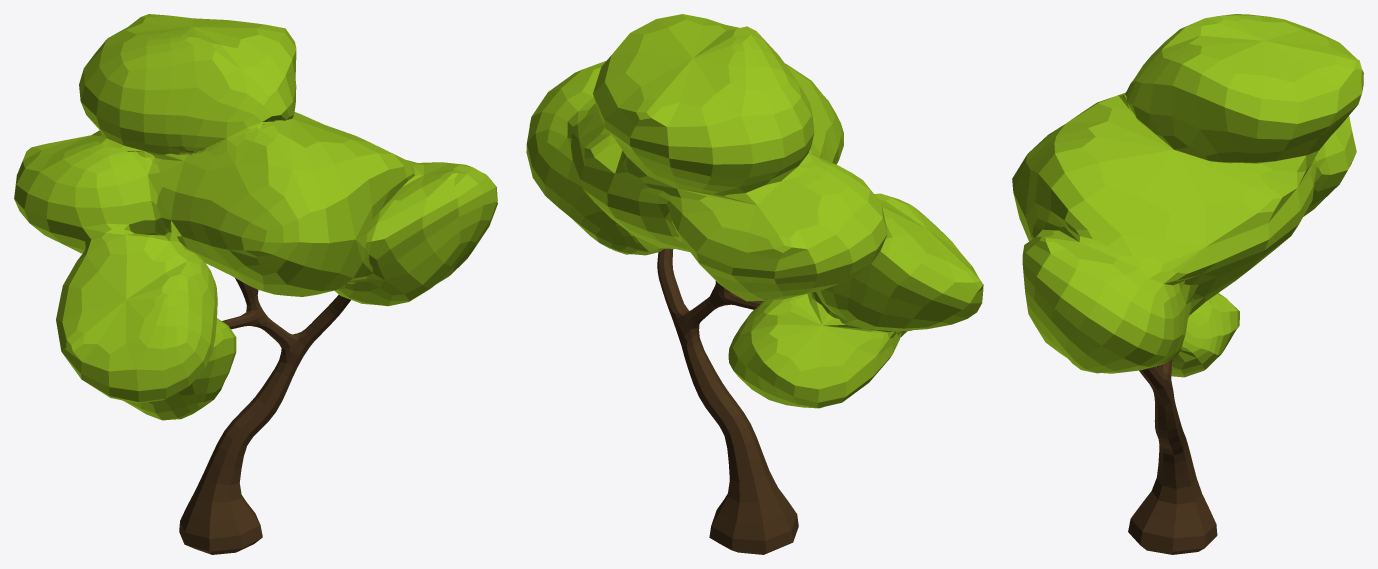
Rendered from GreenTree.fbx.
3 views of the same model, side by side, from view 1: azimuth 30°, elevation 25°; view 2: azimuth 150°, elevation 25°; view 3: azimuth 270°, elevation 25° (orthographic). The views are drawn at different scales.
Visible parts, largest first — view 1: GreenTree; view 2: GreenTree; view 3: GreenTree.
Boxes of the visible parts, x1,y1,x2,y2 form: GreenTree: (14, 14, 497, 554); GreenTree: (526, 14, 983, 554); GreenTree: (1012, 14, 1363, 554).
Size of the model in its own units: 1143 by 1275 by 780.
